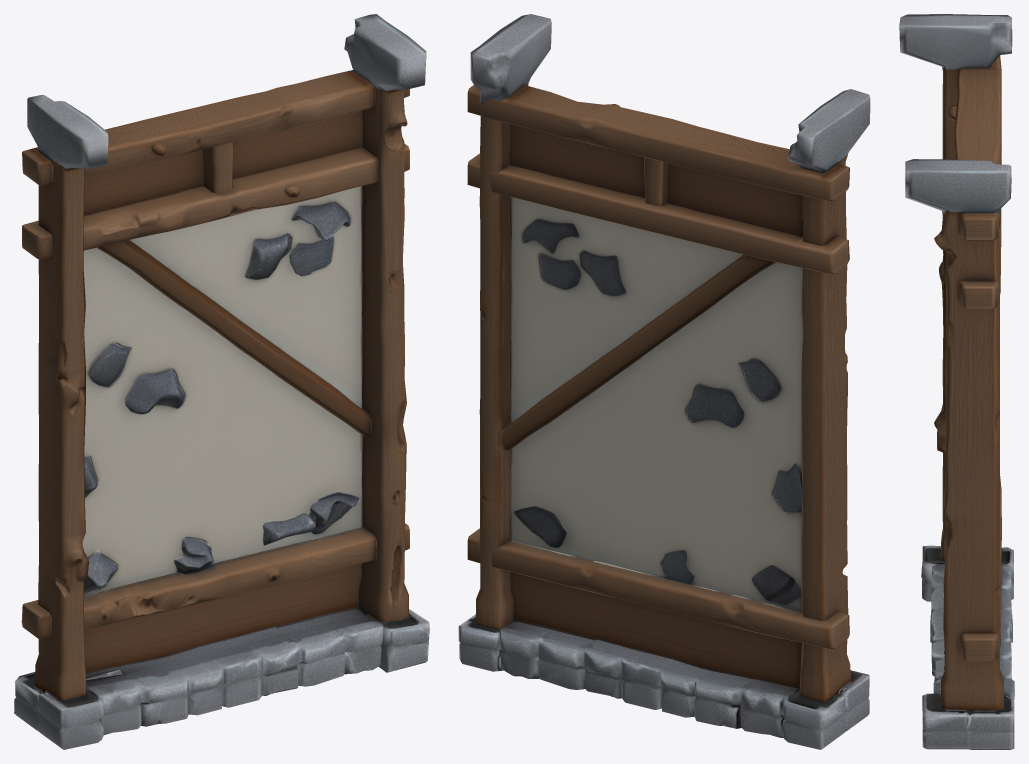
The model's file is muro_dimora.fbx.
3 views of the same model, side by side, from view 1: azimuth 30°, elevation 25°; view 2: azimuth 150°, elevation 25°; view 3: azimuth 270°, elevation 25° (orthographic). The views are drawn at different scales.
Visible parts, largest first — view 1: tripo_node_8bd5b343; view 2: tripo_node_8bd5b343; view 3: tripo_node_8bd5b343.
Boxes of the visible parts, left/top/right/bottom form: tripo_node_8bd5b343: left=14, top=14, right=429, bottom=749; tripo_node_8bd5b343: left=458, top=14, right=870, bottom=749; tripo_node_8bd5b343: left=899, top=14, right=1014, bottom=749.
Size of the model in its own units: 0.6304 by 0.9995 by 0.1821.
Materials: 1 (1 with a texture image).
